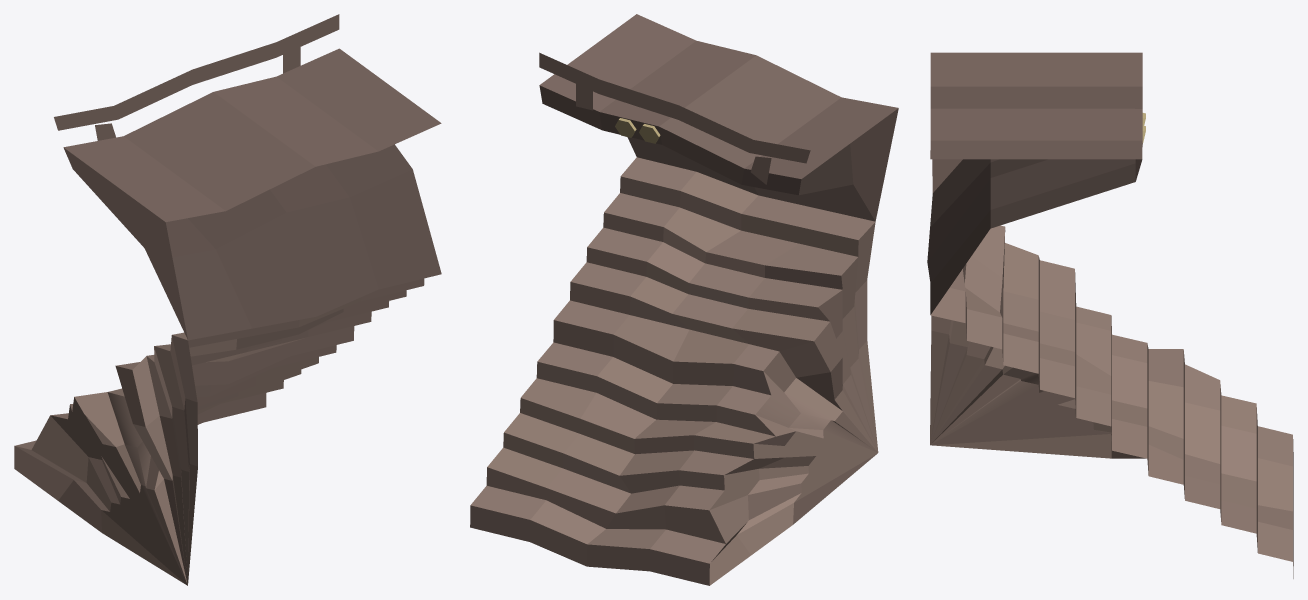
Rendered from bg_seats_broken_02.fbx.
3 renders of one model, left to right at view 1: azimuth 30°, elevation 25°; view 2: azimuth 150°, elevation 25°; view 3: azimuth 270°, elevation 25°, orthographic. The views are drawn at different scales.
Visible parts, largest first — view 1: bg_seats_broken_02; view 2: bg_seats_broken_02; view 3: bg_seats_broken_02.
Boxes of the visible parts, x1,y1,x2,y2 form: bg_seats_broken_02: [14, 14, 441, 585]; bg_seats_broken_02: [470, 14, 898, 585]; bg_seats_broken_02: [927, 52, 1293, 578].
Bounding box in the file's own units: 1349 × 2066 × 1448.
